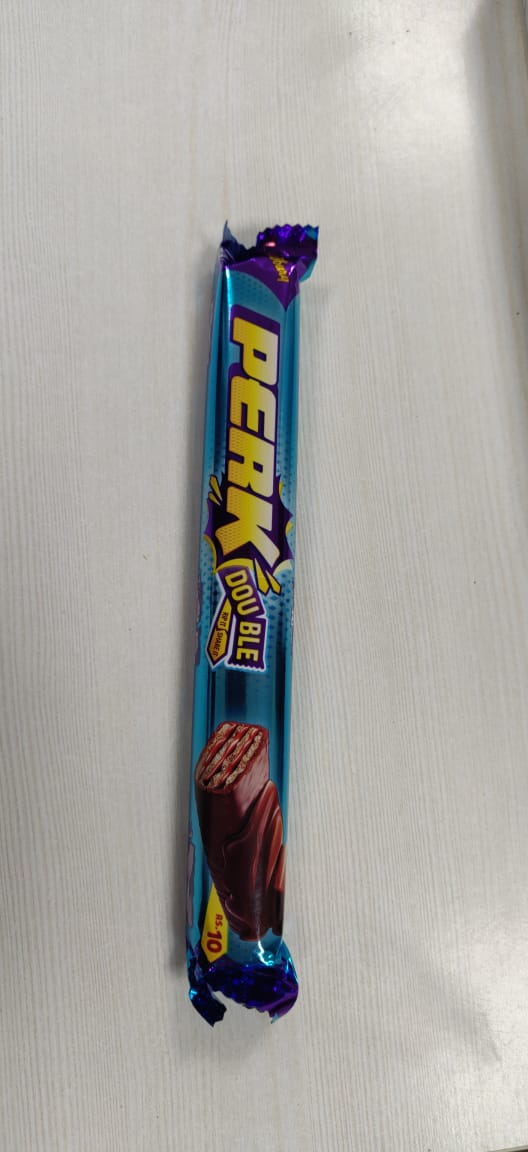perk: (166, 197, 341, 1060)
